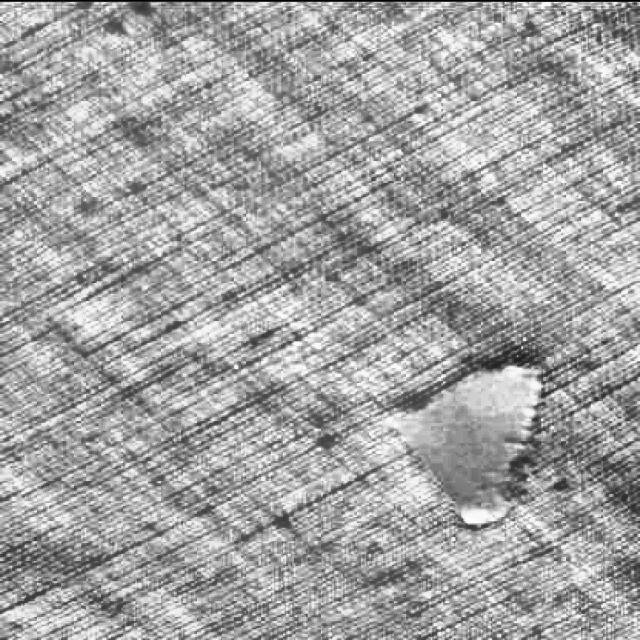objects: (363, 352, 559, 540)
